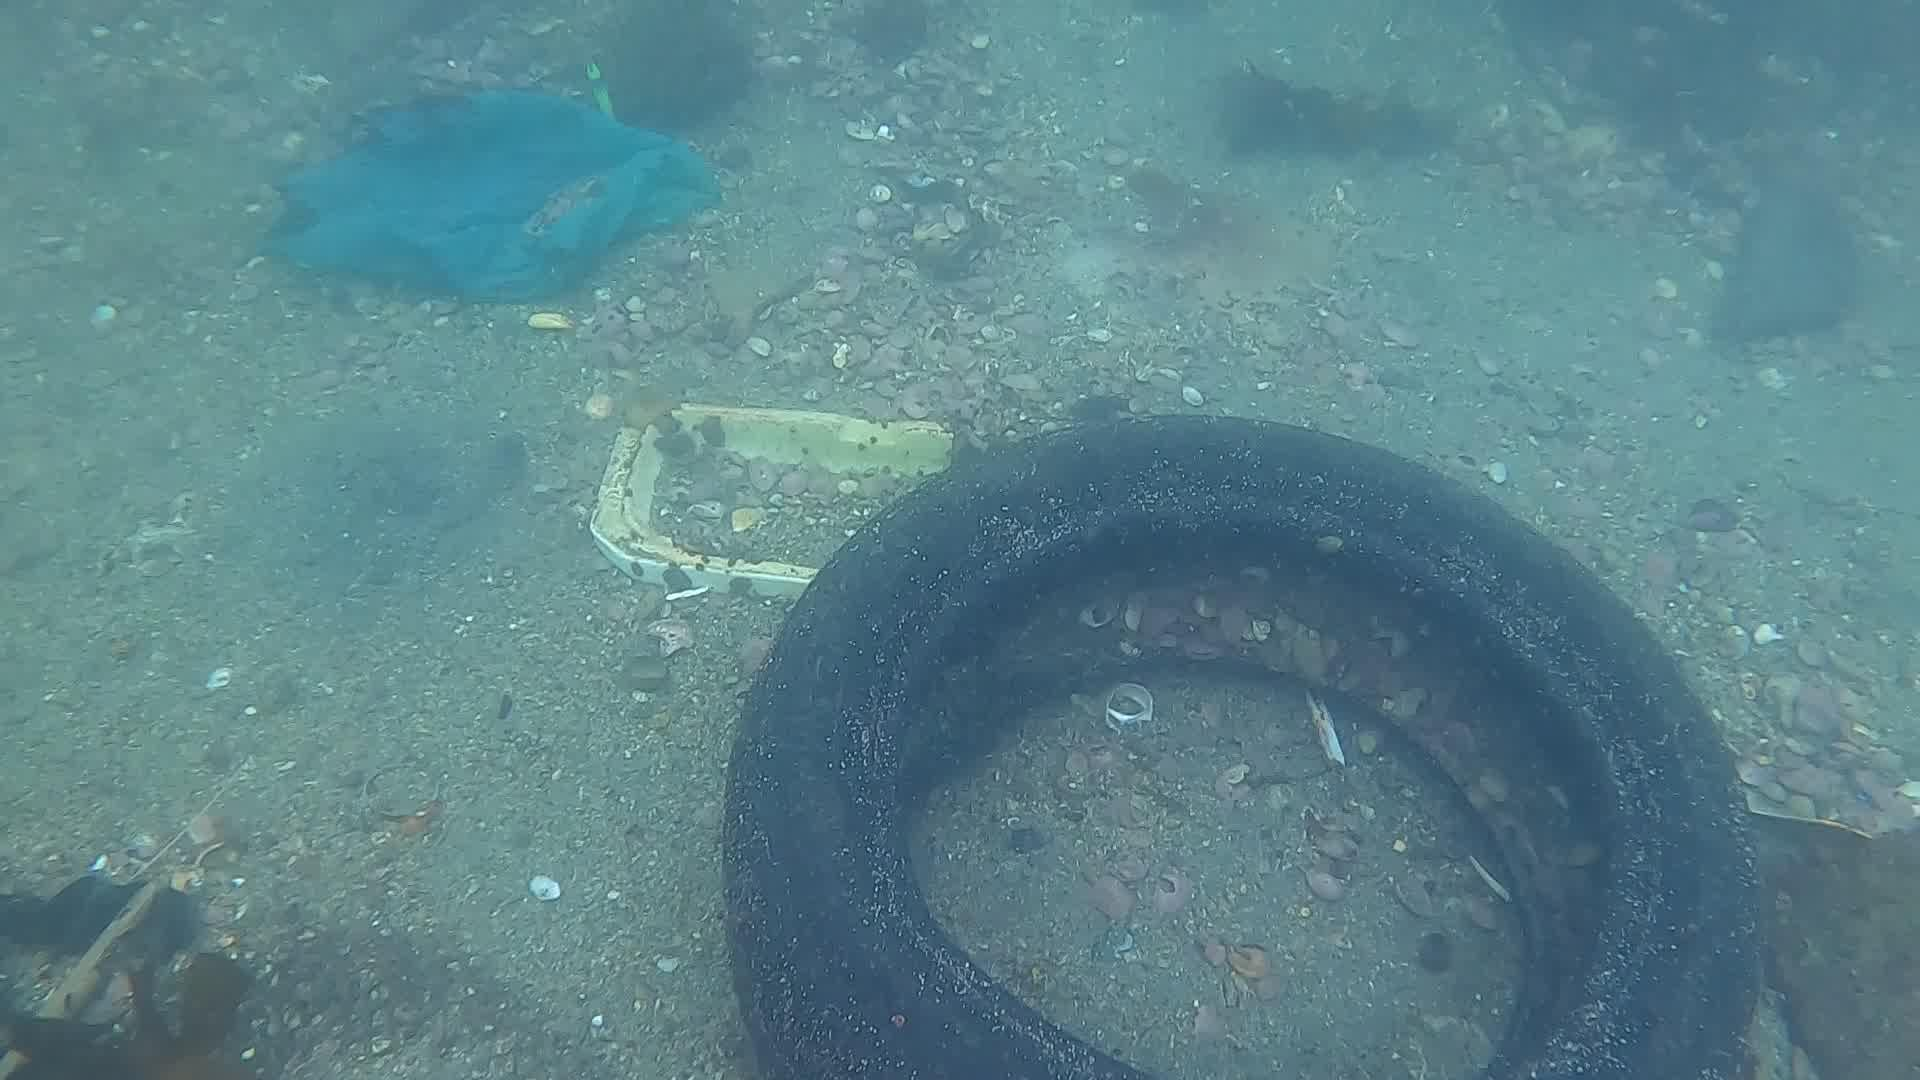tire: (724, 410, 1764, 1080)
